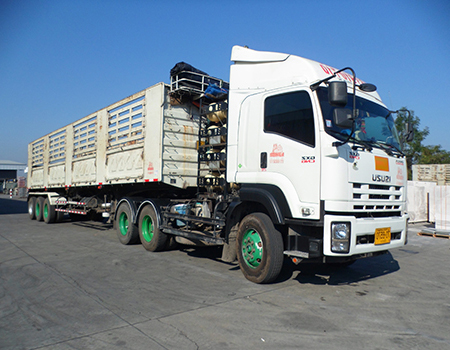truck: (226, 42, 411, 287)
